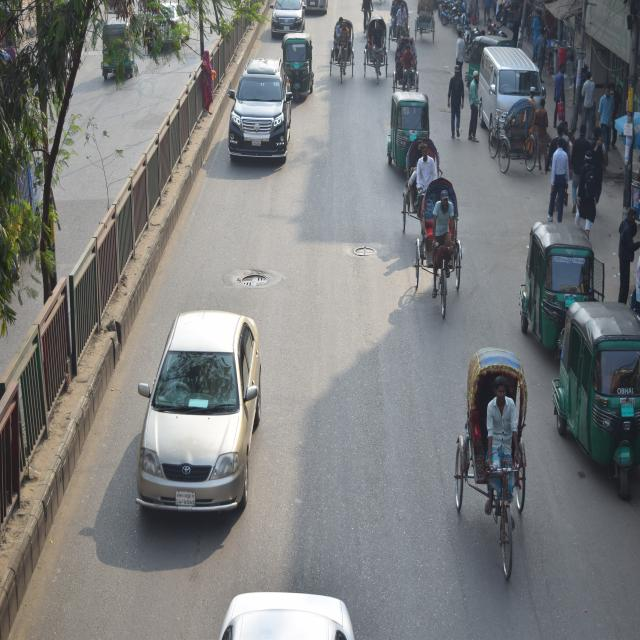car: (127, 310, 265, 516), (224, 64, 292, 174), (270, 0, 302, 43)
microbus: (472, 42, 544, 146)
